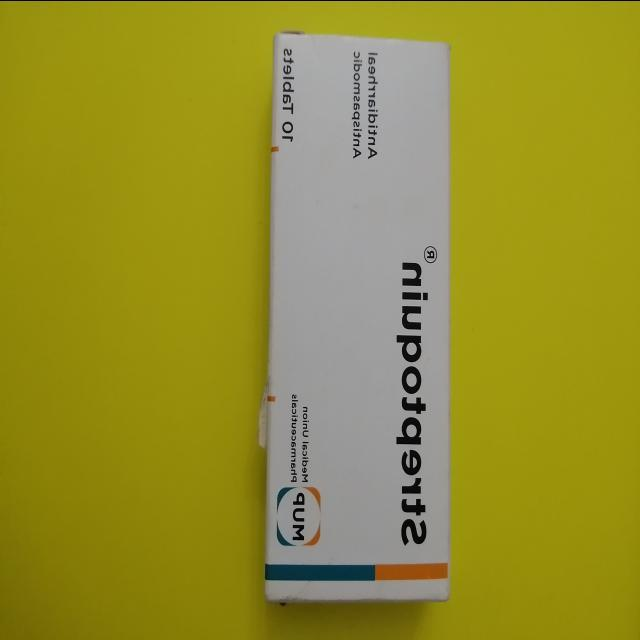Medicine Name: (384, 257, 441, 553)
